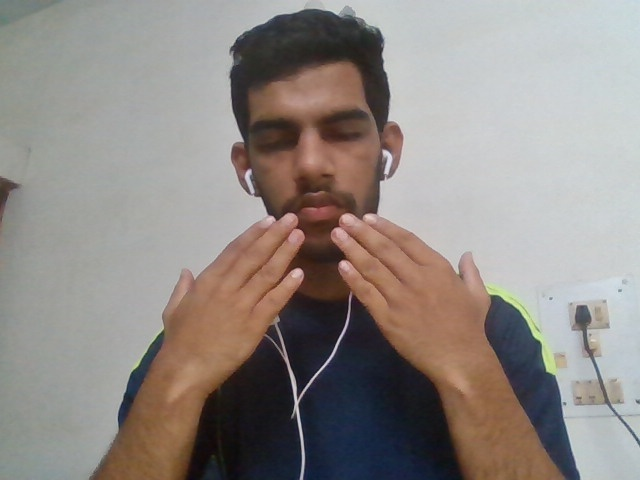thanks: (128, 210, 543, 367)
